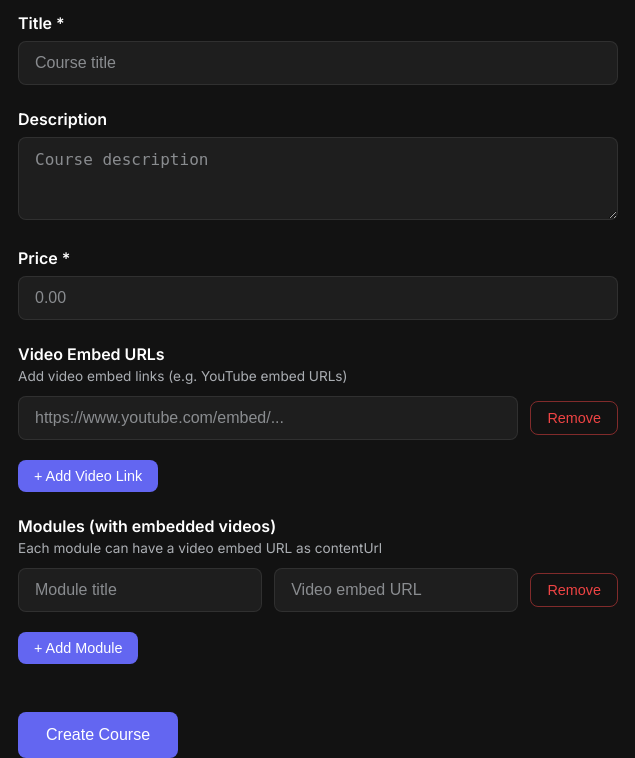
Scenario: CreateCourse component › adds a module row when Add Module is clicked
This screenshot has width=635, height=758.
(page scrolled)
Click the button "+ Add Module": (78, 648) [18,632,138,664]
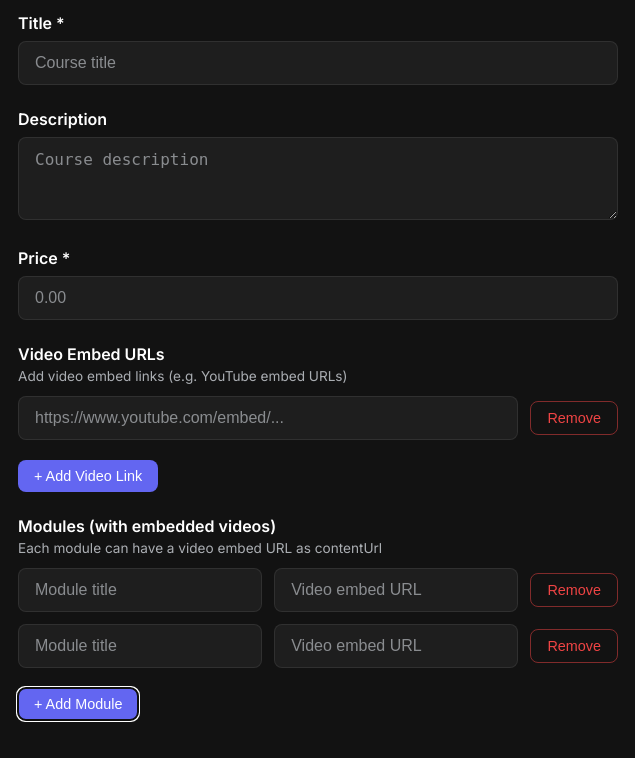
Expected: the number of fields with placeholder "Module title" is 2, [18,568,262,612]; [18,624,262,668]
